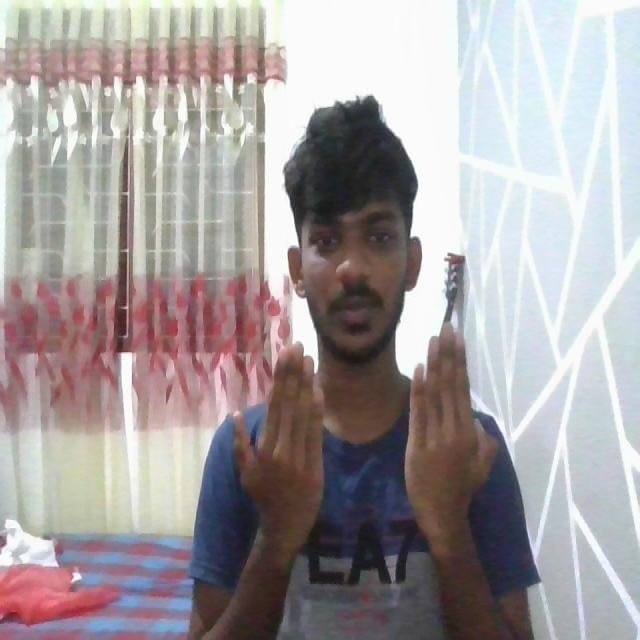ThankYou: (181, 283, 541, 640)
